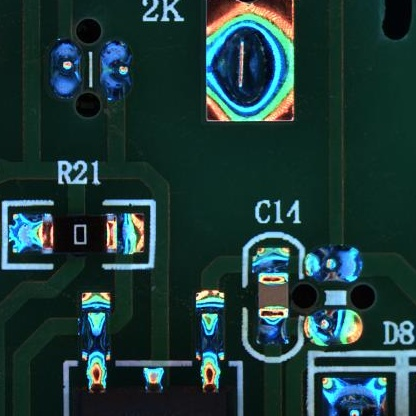spot: (305, 307, 364, 348), (304, 243, 362, 283), (47, 39, 84, 100), (96, 39, 132, 100)
